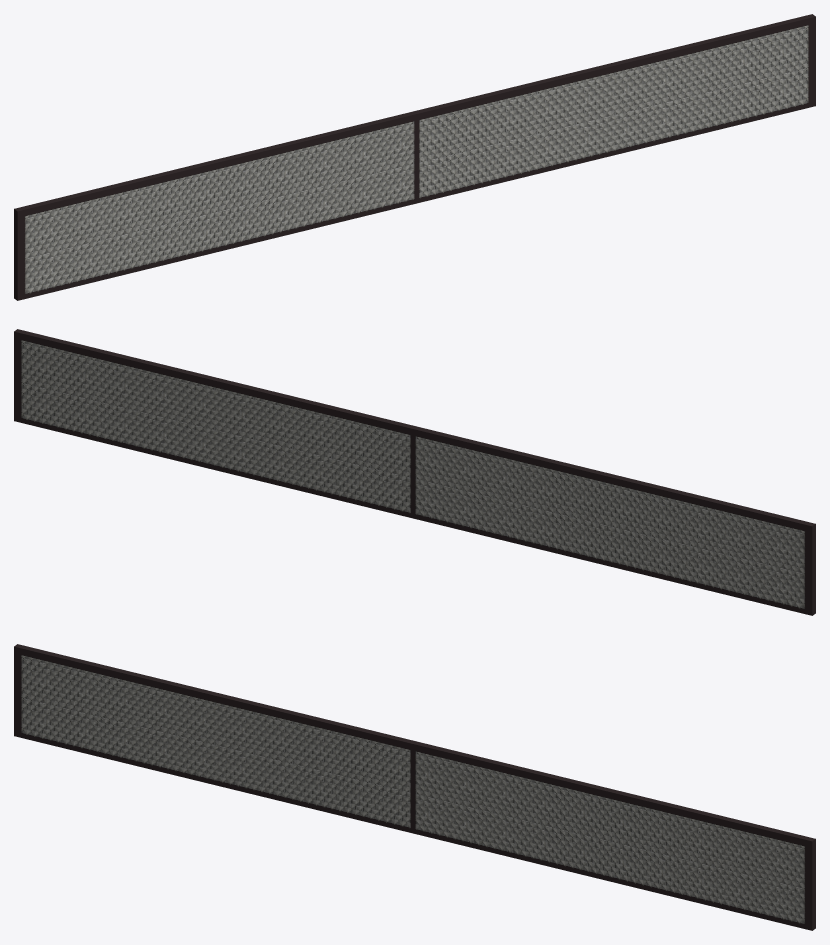
Rendered from fencePark.fbx.
The picture shows the model from 3 angles, top to bottom: view 1: azimuth 30°, elevation 25°; view 2: azimuth 150°, elevation 25°; view 3: azimuth 330°, elevation 25°; orthographic projection.
Parts seen in each view (by area): view 1: fencePark_GEO; view 2: fencePark_GEO; view 3: fencePark_GEO.
Boxes of the visible parts, box(x1,y1,x2,y2) form: fencePark_GEO: box(14, 14, 815, 300); fencePark_GEO: box(14, 329, 815, 615); fencePark_GEO: box(14, 644, 815, 930).
Bounding box in the file's own units: 140 × 15 × 1.06.
1 material, 1 textured.
